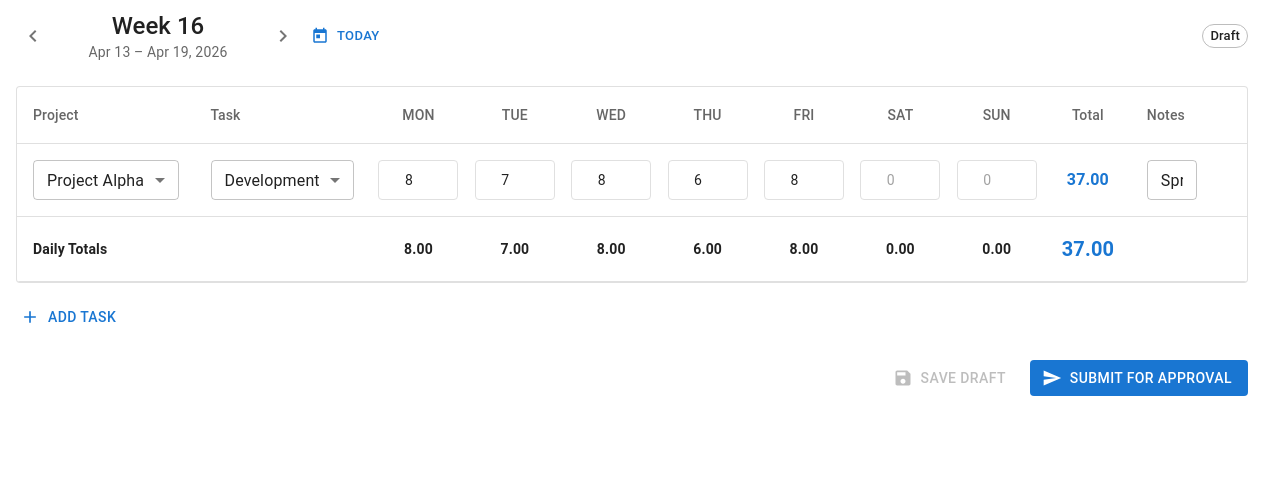
Add / Delete Tasks › clicking Add Task adds a new row
The width and height of the screenshot is (1265, 486).
# Count existing project selects (1 row for existing data)
Click the button "Add Task": (70, 317) x1=16 y1=299 x2=124 y2=336
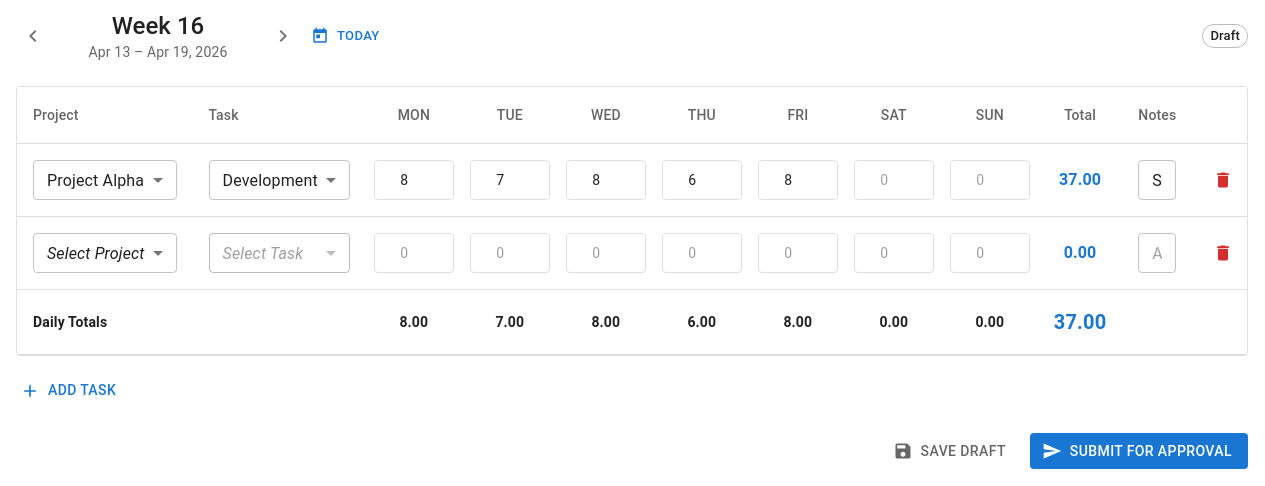
Expected: the element with test id "timesheet-project-select-1" is shown, x1=33 y1=233 x2=177 y2=273
